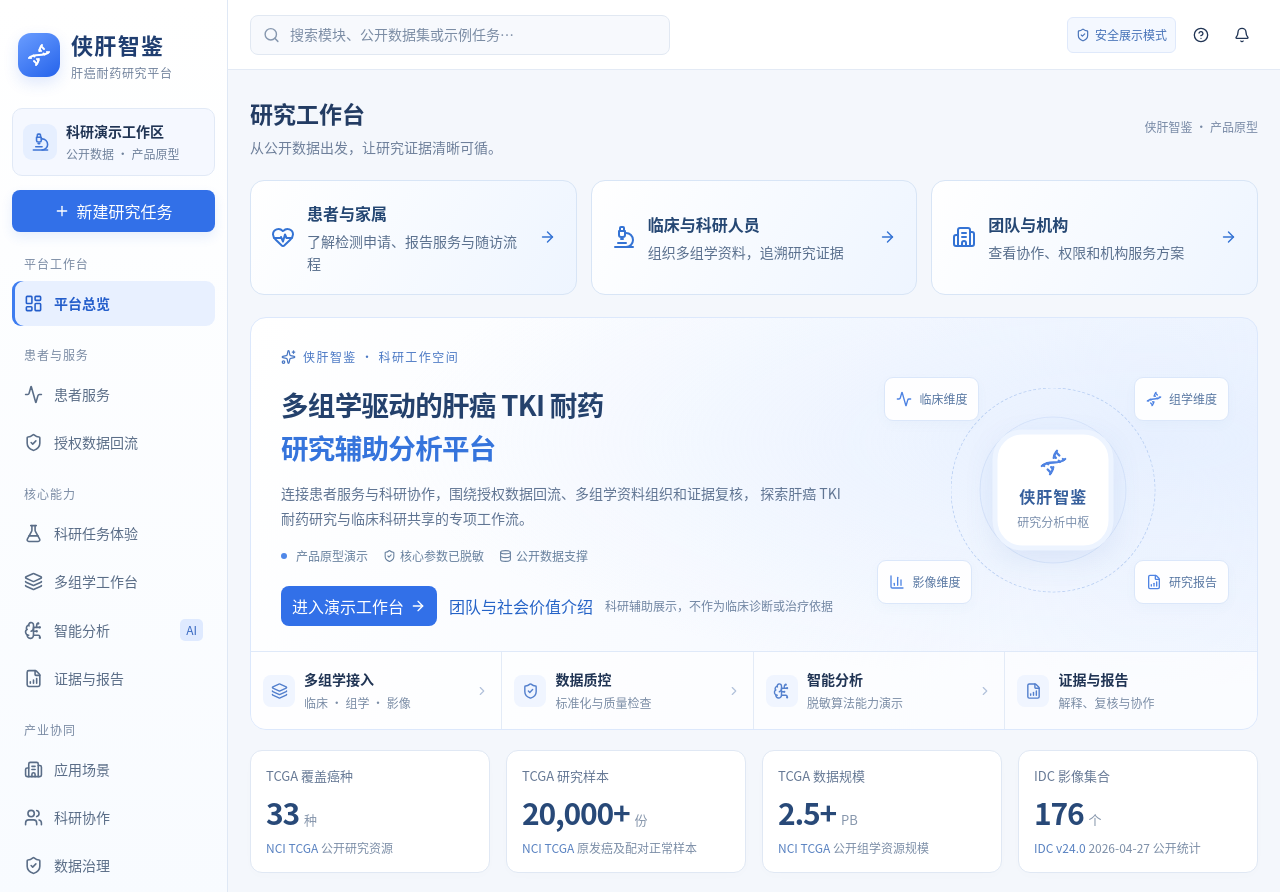
Scenario: 侠肝智鉴产业展示工作台 › 搜索模块并通过结果进入，搜索同时清空
Type "数据治理" into the field named "全局搜索". click: (474, 34)
box: x1=290 y1=24 x2=657 y2=45
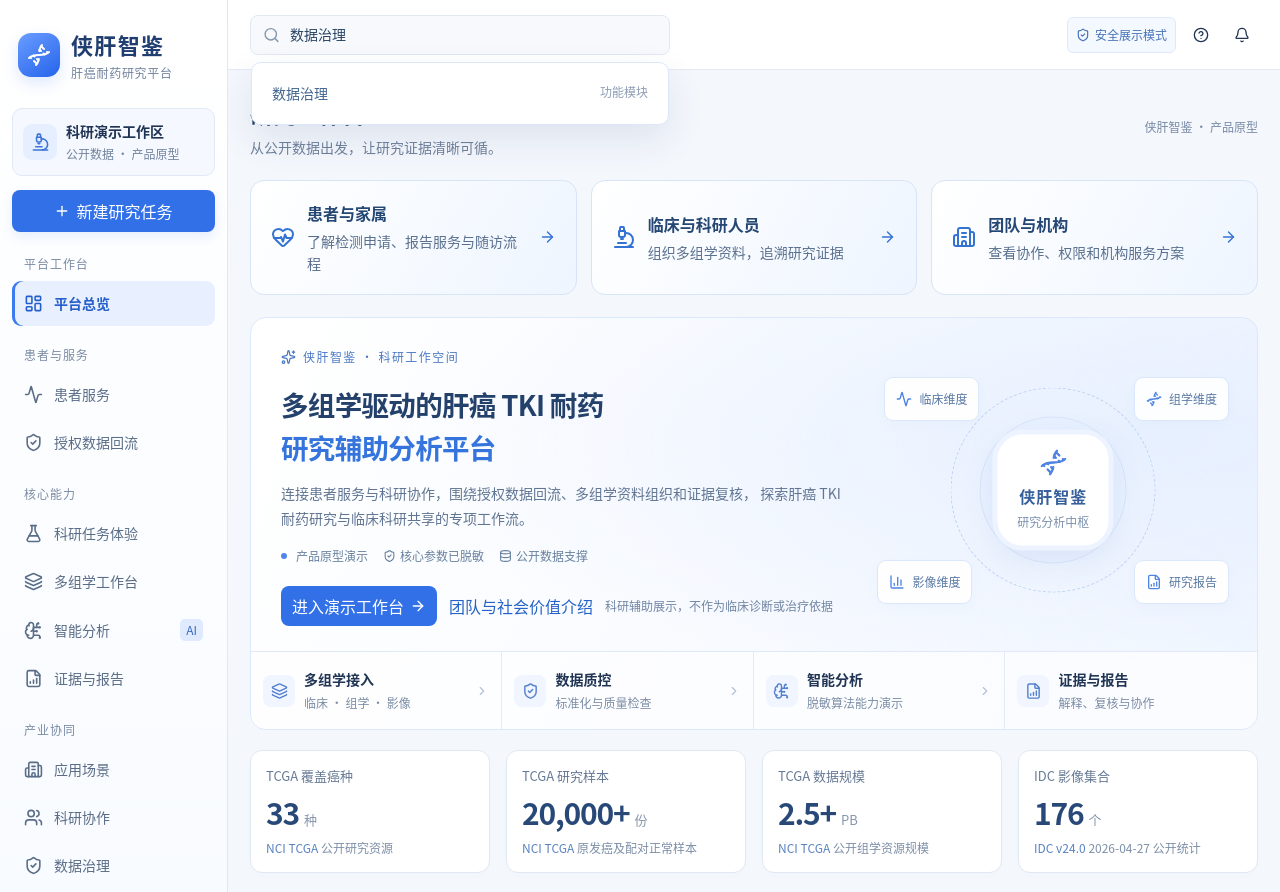
Press Enter in the field named "全局搜索", box x1=290 y1=24 x2=657 y2=45
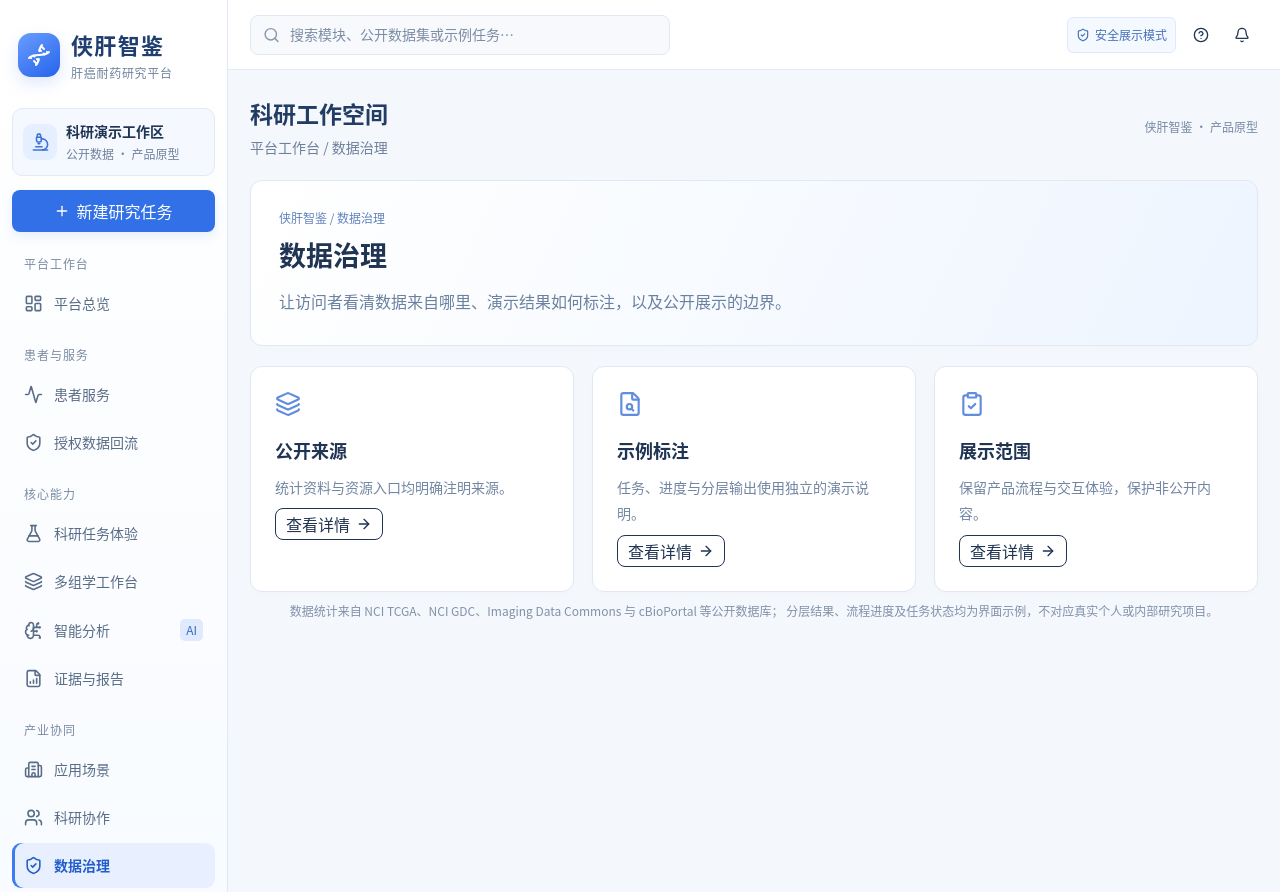
Result: the heading "数据治理" is shown at x1=279 y1=234 x2=387 y2=274
Result: the field named "全局搜索" is empty at x1=290 y1=24 x2=657 y2=45
